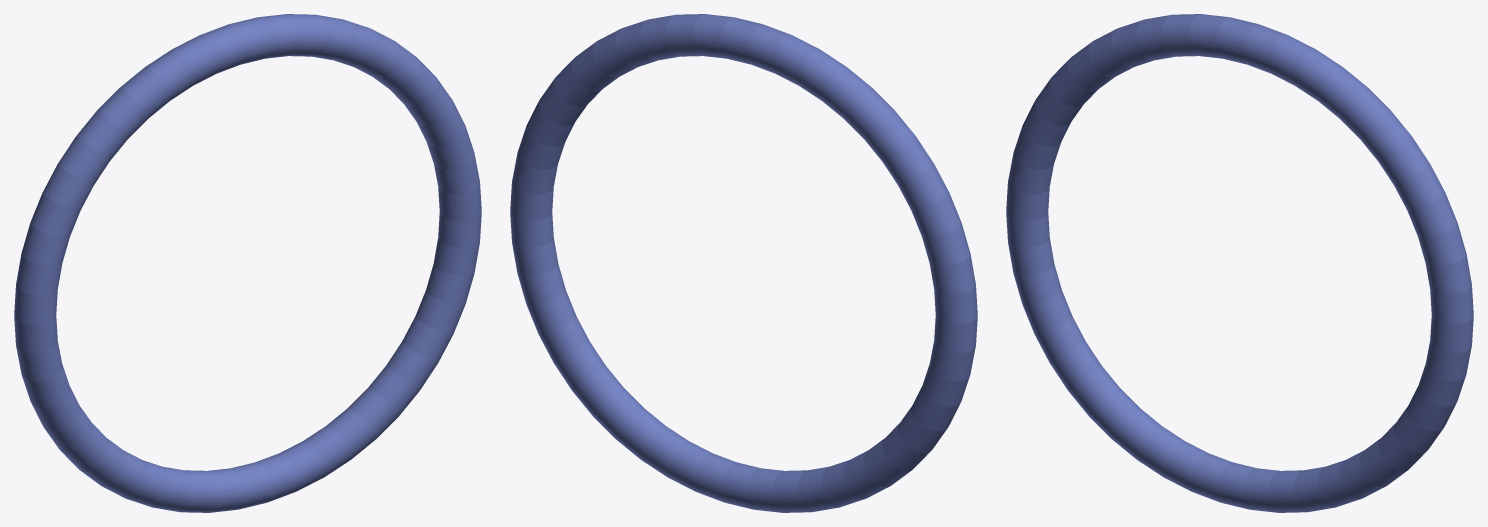
3 views of the same model, side by side, from view 1: azimuth 30°, elevation 25°; view 2: azimuth 150°, elevation 25°; view 3: azimuth 330°, elevation 25° (orthographic).
Visible parts, largest first — view 1: world; view 2: world; view 3: world.
Boxes of the visible parts, box(x1,y1,x2,y2) form: world: box(14, 14, 481, 512); world: box(510, 14, 977, 512); world: box(1006, 14, 1473, 512).
Bounding box in the file's own units: 25.33 × 25.28 × 2.
